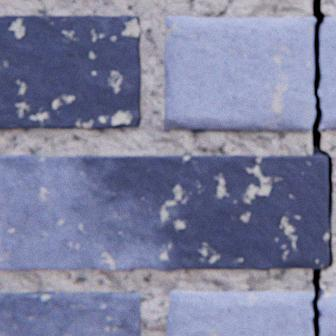brick: (0, 154, 328, 269), (0, 15, 142, 128), (0, 290, 142, 335)
broken_brick: (165, 16, 315, 129), (168, 289, 313, 335), (318, 17, 335, 128), (318, 291, 335, 335)
crack: (310, 0, 333, 335)
